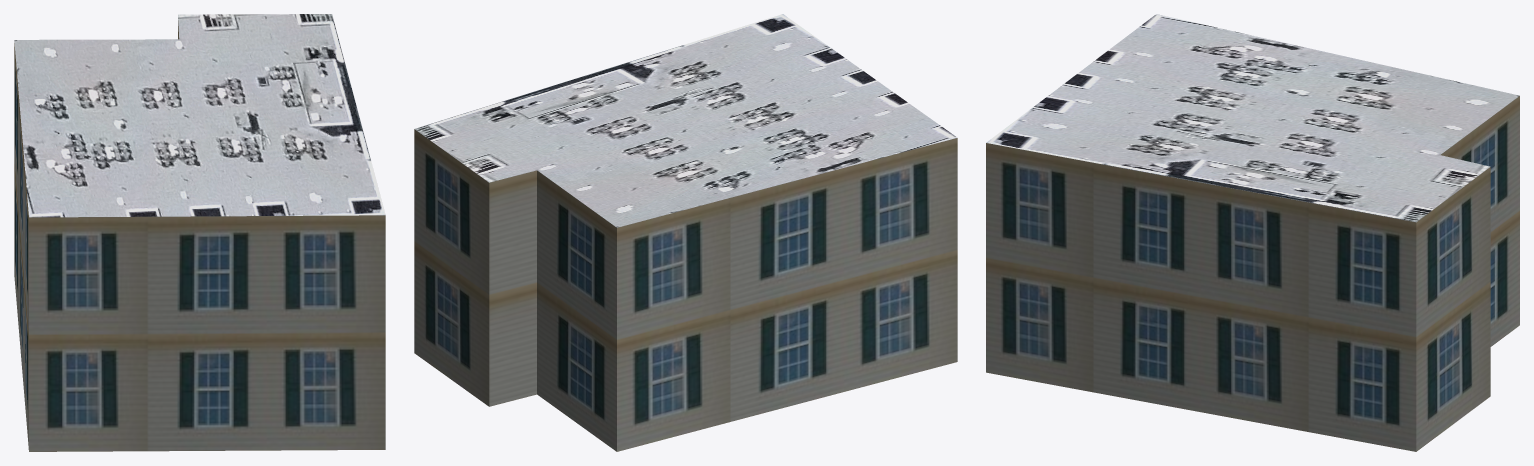
Rendered from ResTex__2542.fbx.
3 renders of one model, left to right at view 1: azimuth 30°, elevation 25°; view 2: azimuth 150°, elevation 25°; view 3: azimuth 270°, elevation 25°, orthographic. The views are drawn at different scales.
Parts seen in each view (by area): view 1: CityEngineMaterial_7_m, CityEngineMaterial_m; view 2: CityEngineMaterial_7_m, CityEngineMaterial_m; view 3: CityEngineMaterial_7_m, CityEngineMaterial_m.
Part boxes in pixels (left/top/right/bottom): CityEngineMaterial_7_m: left=14, top=20, right=385, bottom=451; CityEngineMaterial_m: left=14, top=14, right=385, bottom=217; CityEngineMaterial_7_m: left=414, top=129, right=957, bottom=451; CityEngineMaterial_m: left=415, top=14, right=957, bottom=227; CityEngineMaterial_7_m: left=986, top=96, right=1519, bottom=451; CityEngineMaterial_m: left=986, top=14, right=1519, bottom=222.
Size of the model in its own units: 11.67 by 6 by 12.64.
2 materials, 2 textured.
